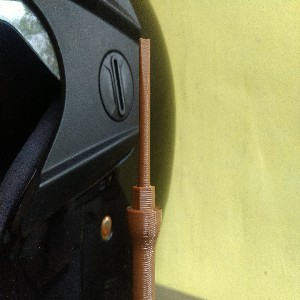obeng: (126, 36, 163, 300)
